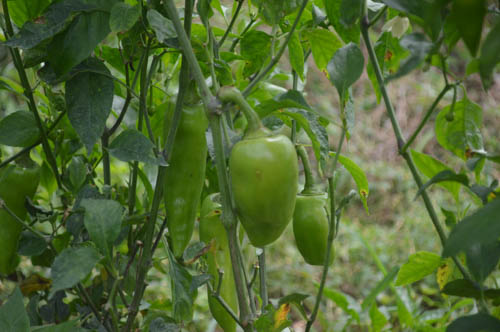ChiliPepper: (230, 135, 297, 254), (163, 106, 206, 257), (202, 199, 242, 331), (1, 163, 42, 277), (298, 192, 336, 270)
